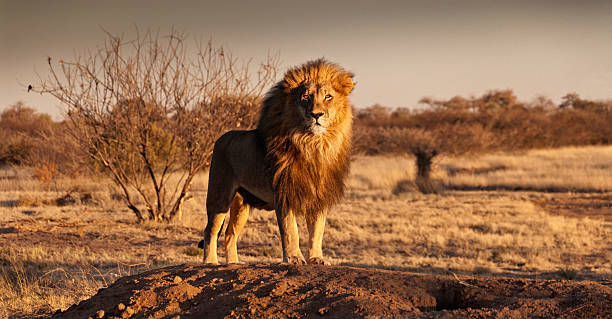lion: (252, 50, 369, 233)
